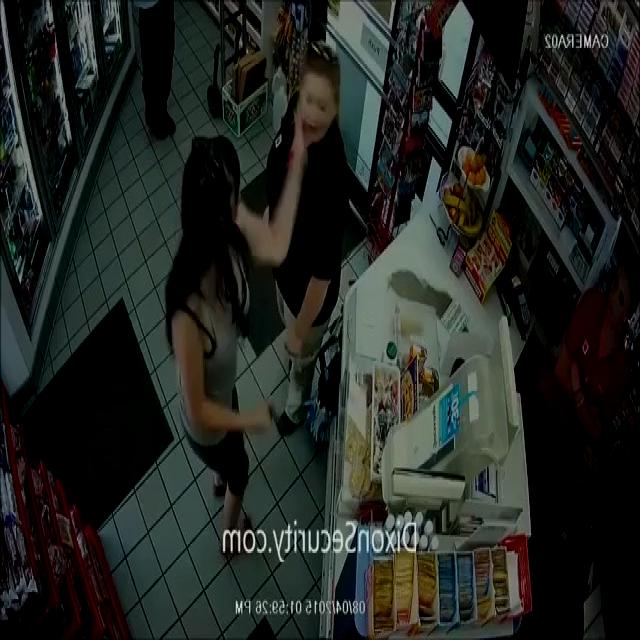fight: (164, 44, 349, 558)
